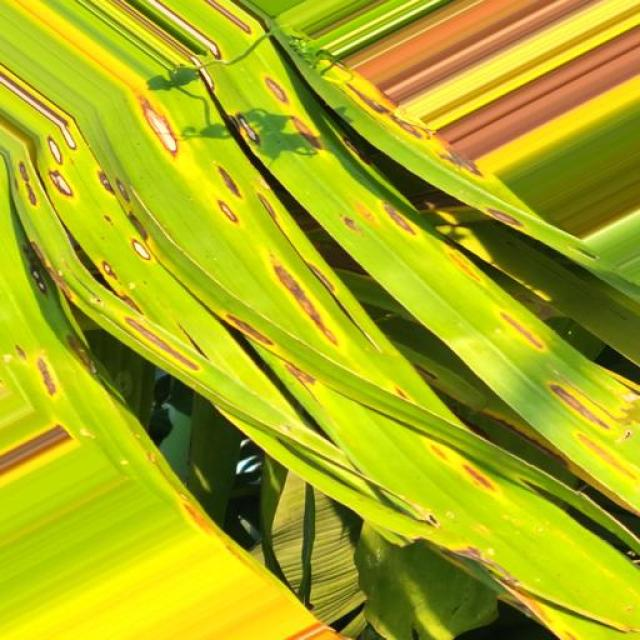Early_rust: (0, 33, 576, 590)
